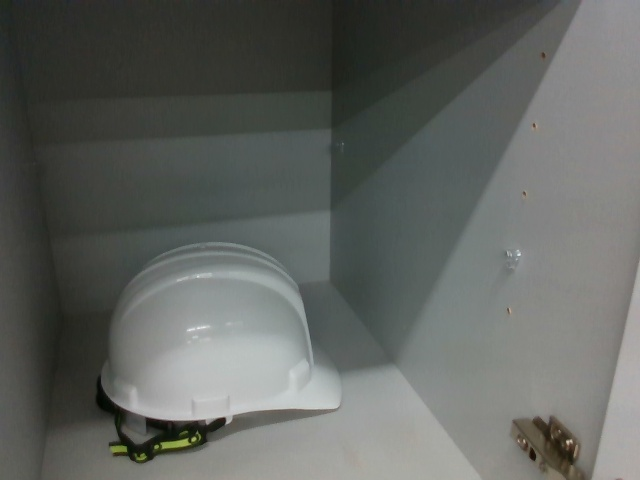helmet: (96, 236, 347, 461)
